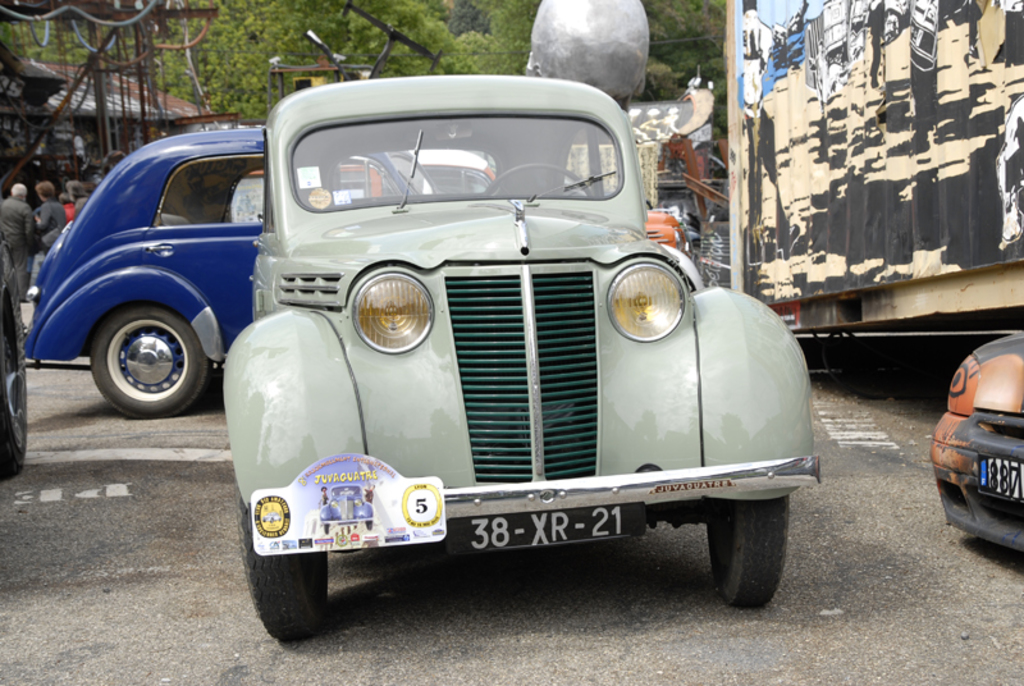Car: (221, 74, 821, 646), (21, 125, 435, 419), (230, 151, 696, 257), (920, 357, 1024, 549), (0, 227, 21, 478), (318, 482, 373, 531)
